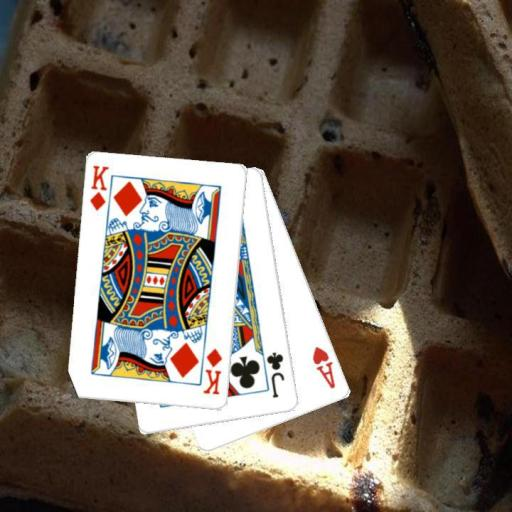AH: (309, 344, 337, 391)
JC: (264, 349, 287, 400)
KD: (200, 345, 224, 397), (87, 162, 110, 213)
